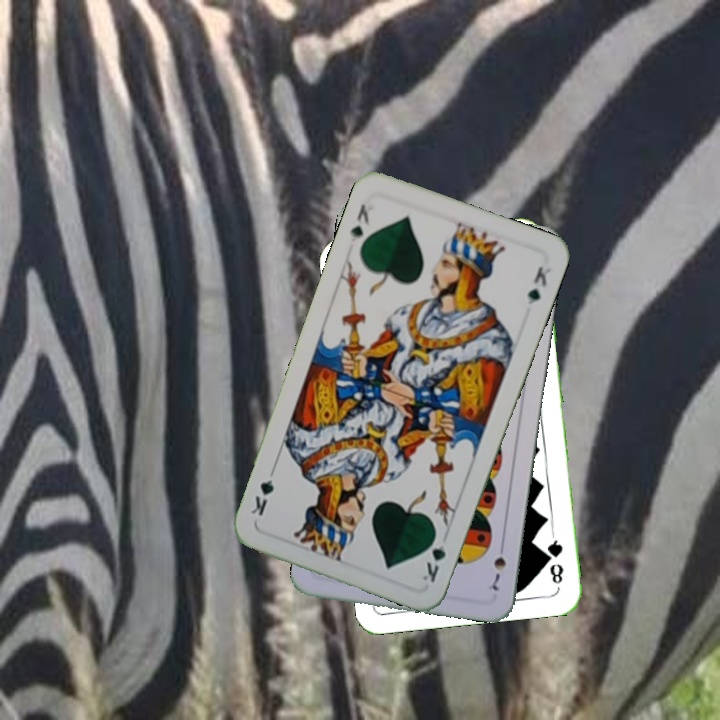G8: (543, 530, 566, 587)
GK: (418, 527, 449, 585), (346, 200, 372, 245)
S7: (487, 538, 509, 597)
